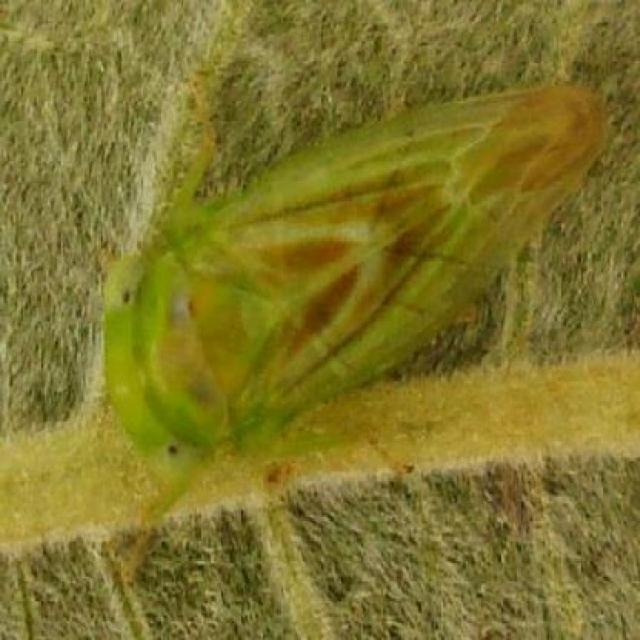green-leafhopper: (102, 78, 614, 584)
